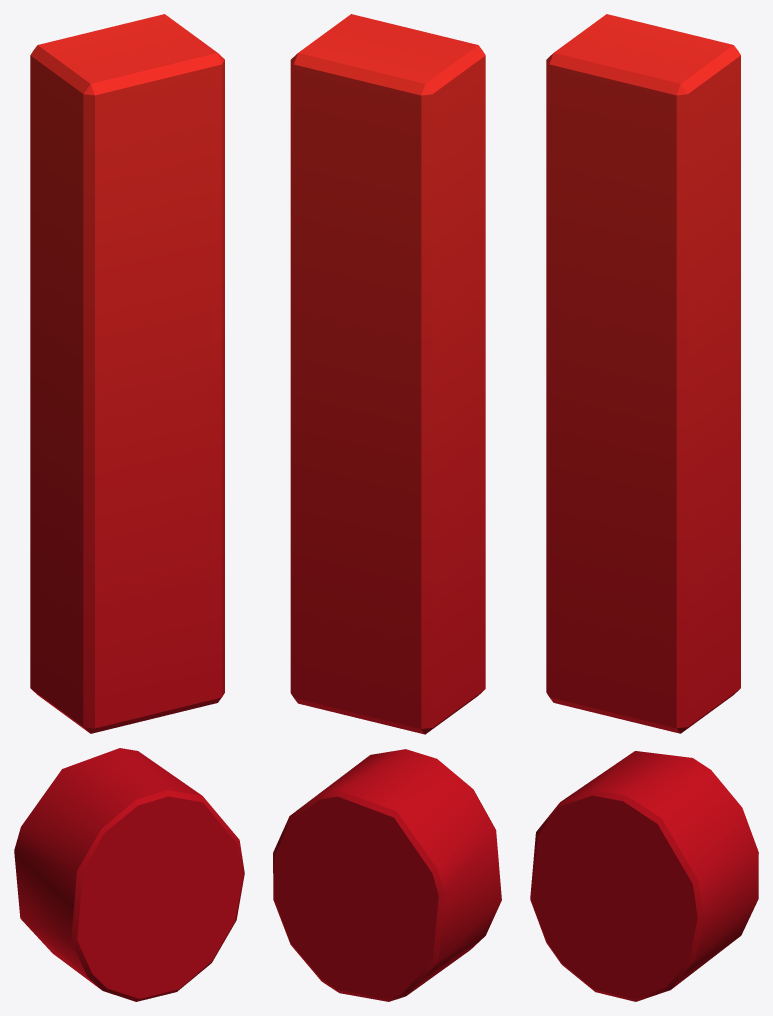
File: Simbol_Alert.FBX
3 views of the same model, side by side, from view 1: azimuth 30°, elevation 25°; view 2: azimuth 150°, elevation 25°; view 3: azimuth 330°, elevation 25° (orthographic).
Visible parts, largest first — view 1: Simbol_Alert; view 2: Simbol_Alert; view 3: Simbol_Alert.
Part boxes in pixels (left/top/right/bottom): Simbol_Alert: left=14, top=14, right=244, bottom=1001; Simbol_Alert: left=273, top=14, right=501, bottom=1001; Simbol_Alert: left=530, top=14, right=758, bottom=1001.
Bounding box in the file's own units: 14.07 × 71.81 × 8.62.
